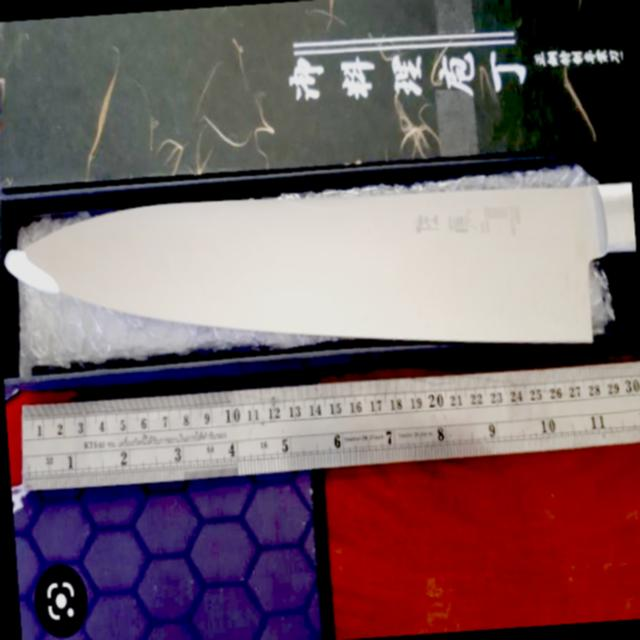knife: (0, 162, 640, 388)
